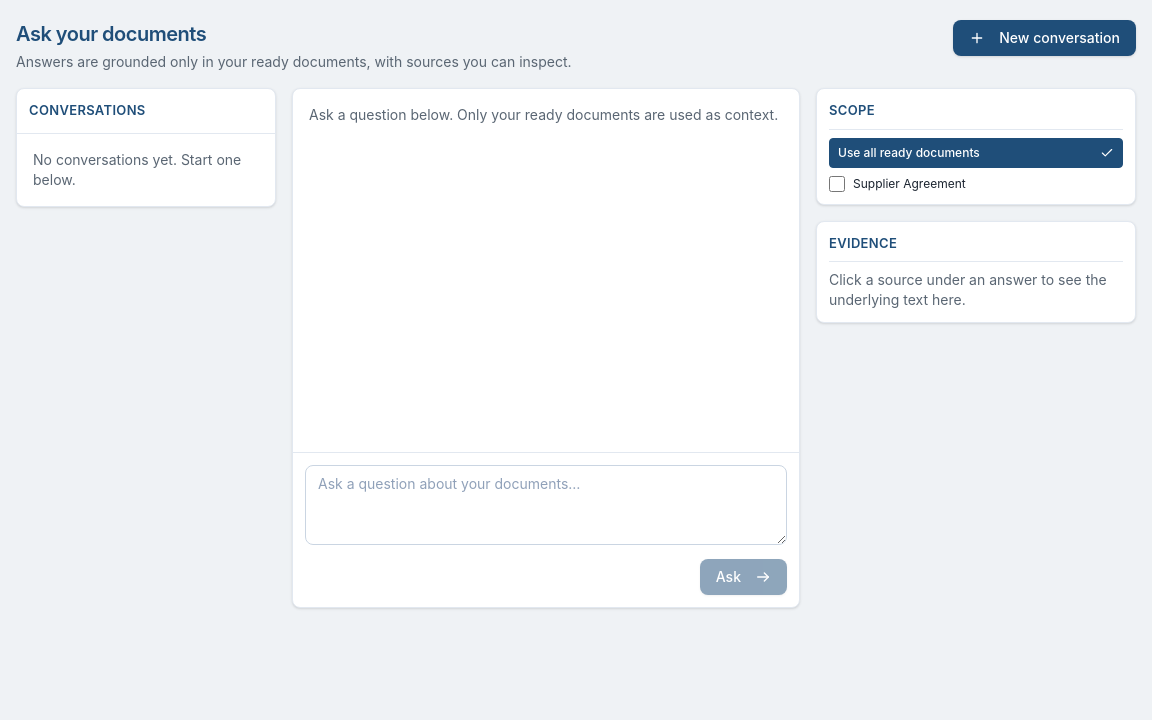
Test: Chat screen -- streaming ask (US-020-2) › AC-070 (error variant): an `error` event after partial text also marks the answer incomplete rather than showing the generic banner
This screenshot has width=1152, height=720.
expect the text "Supplier Agreement" is shown: met, box [853, 176, 966, 190]
In the text box labelled "Ask a question": (546, 505) [305, 465, 787, 545], type "Anything on file?"
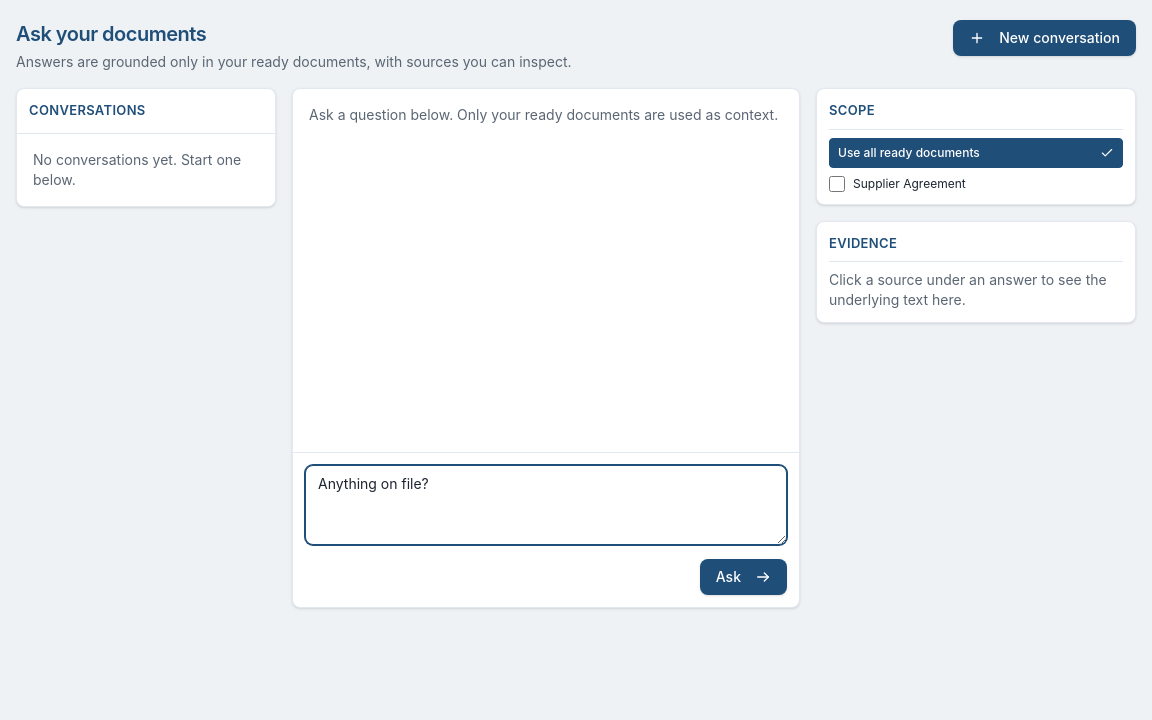
Click the button "Ask": (743, 577) [700, 559, 787, 595]
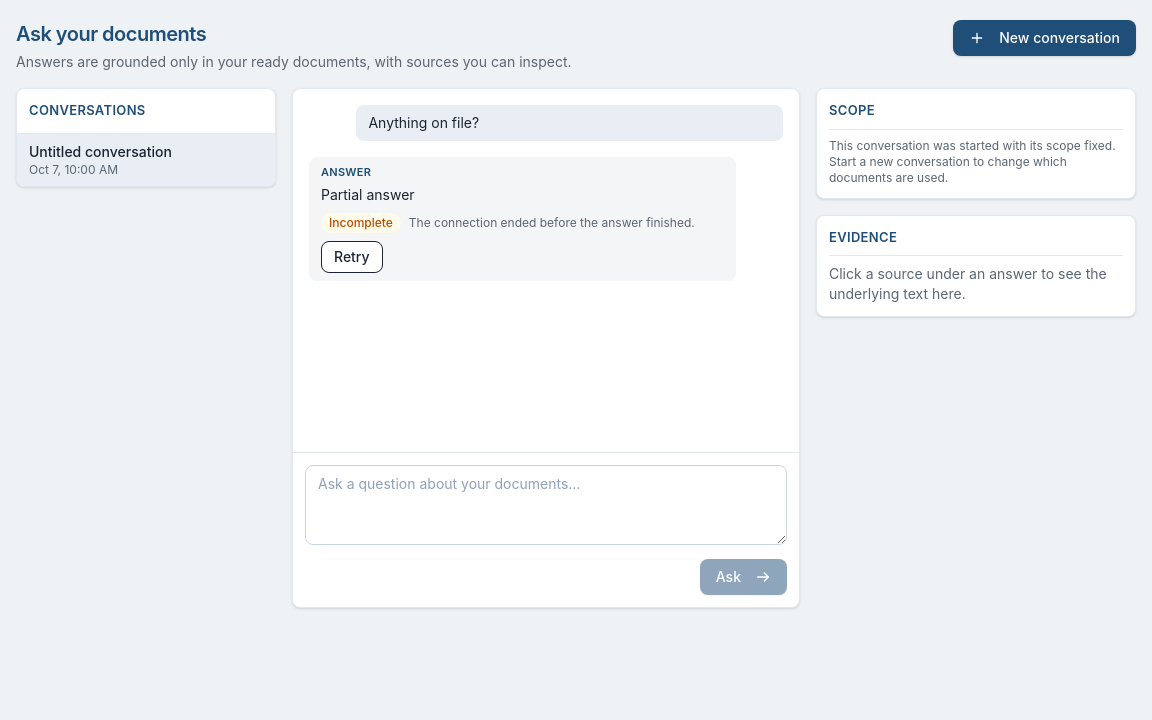
expect the text "Partial answer" is shown: met, box [321, 186, 415, 203]
expect the text "Incomplete" is shown: met, box [321, 213, 401, 233]
